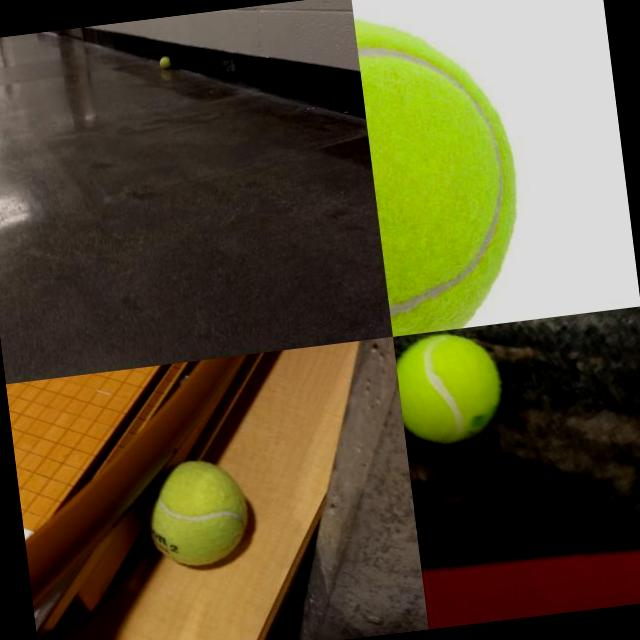Tennis Ball: (352, 0, 533, 335), (137, 452, 255, 574), (392, 326, 508, 450), (158, 54, 172, 68)
